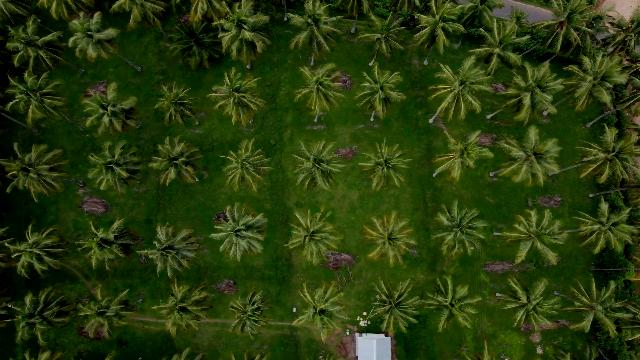trees: (489, 62, 568, 127), (559, 276, 636, 341), (428, 59, 499, 124), (531, 2, 605, 63), (498, 207, 572, 267), (494, 128, 565, 189), (495, 276, 568, 335), (565, 51, 631, 115), (4, 289, 76, 347), (573, 126, 639, 189), (466, 14, 532, 77), (3, 144, 73, 203), (571, 199, 640, 258), (4, 223, 74, 281), (72, 217, 144, 273), (215, 3, 274, 71), (72, 286, 141, 344), (137, 223, 207, 280), (151, 279, 216, 339), (408, 4, 474, 63), (5, 70, 71, 128), (4, 17, 70, 75), (288, 2, 346, 66), (431, 202, 492, 261), (209, 205, 270, 264), (285, 209, 345, 268), (209, 69, 269, 128), (423, 276, 484, 334), (293, 283, 351, 344), (431, 131, 495, 186), (365, 279, 424, 337), (80, 82, 142, 137), (293, 65, 350, 123), (361, 212, 419, 268), (85, 142, 146, 195), (353, 64, 408, 122), (163, 18, 223, 71), (353, 12, 409, 68), (356, 140, 414, 193), (67, 12, 125, 65), (292, 142, 349, 195), (217, 141, 274, 194), (150, 136, 208, 188), (225, 287, 275, 342), (154, 83, 204, 129), (113, 2, 170, 31)
